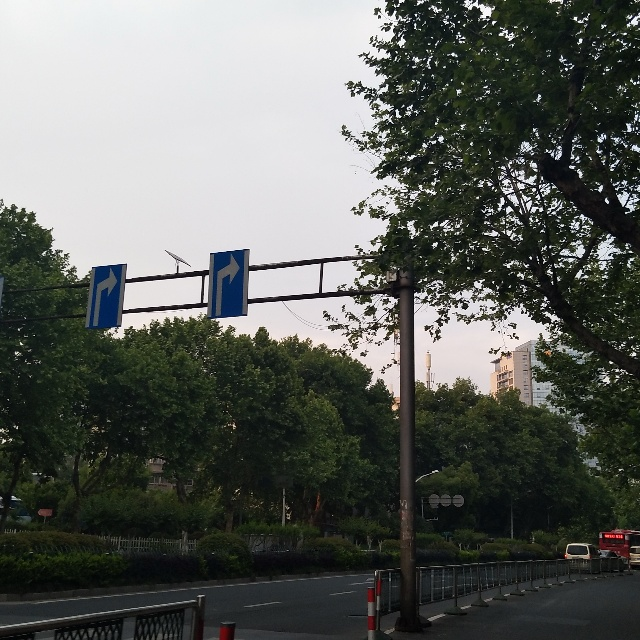right: (209, 253, 245, 317), (91, 265, 119, 327)
